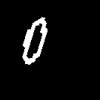chain: (23, 18, 46, 63)
